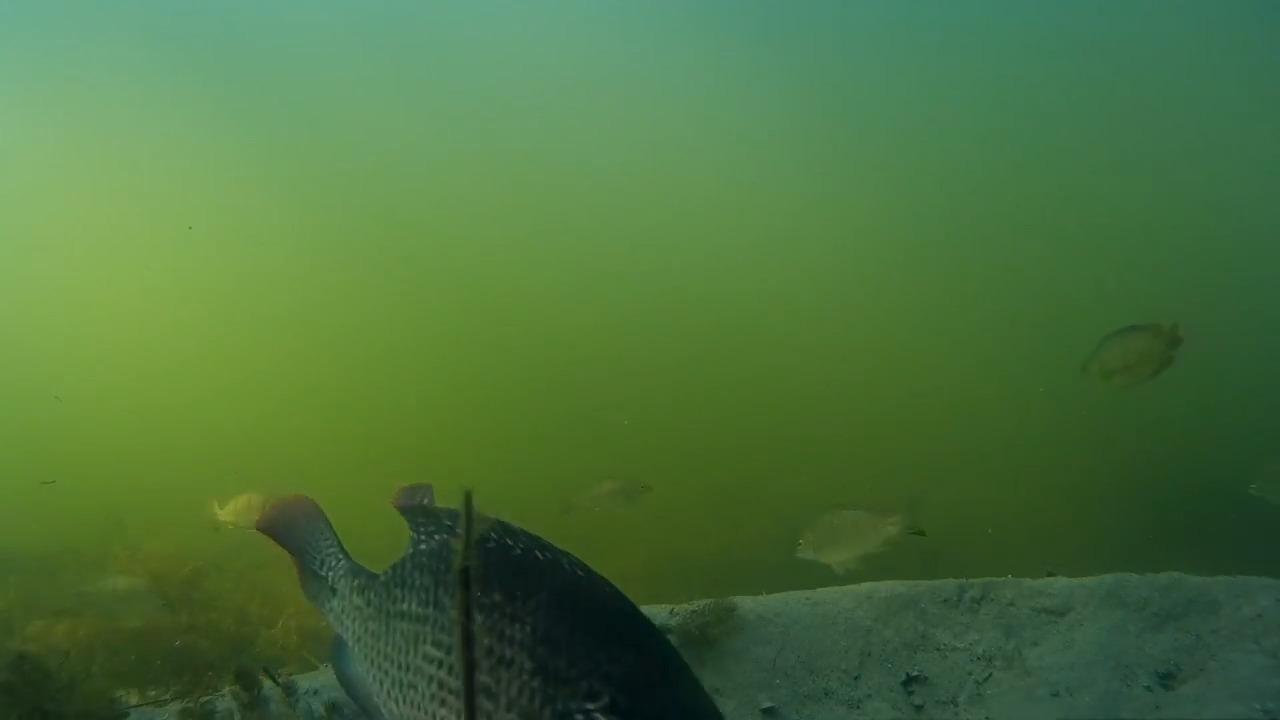Tilapia: (223, 474, 728, 720), (794, 494, 925, 582), (1082, 312, 1185, 398), (568, 468, 661, 526), (1235, 436, 1280, 518)
